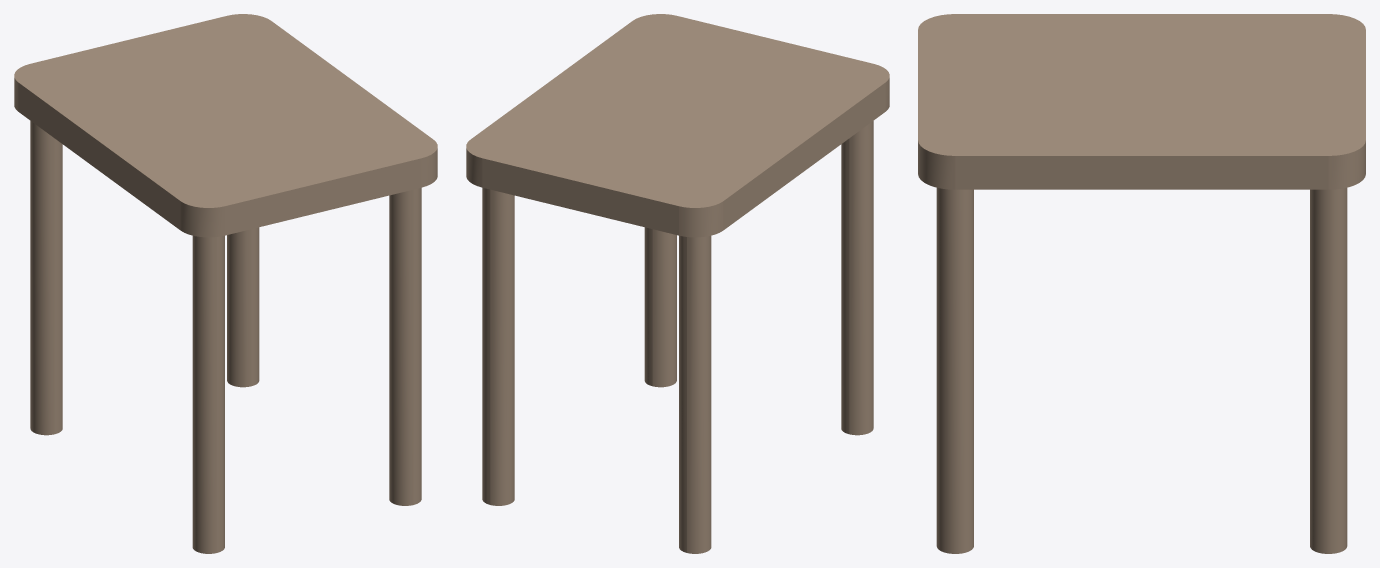
File: SimpleTable.dae
3 renders of one model, left to right at view 1: azimuth 30°, elevation 25°; view 2: azimuth 150°, elevation 25°; view 3: azimuth 270°, elevation 25°, orthographic. The views are drawn at different scales.
Visible parts, largest first — view 1: model; view 2: model; view 3: model.
Boxes of the visible parts, bbox=[...] form: model: bbox=[14, 14, 437, 553]; model: bbox=[466, 14, 889, 553]; model: bbox=[918, 14, 1365, 553].
Size of the model in its own units: 0.45 by 0.6 by 0.6.
